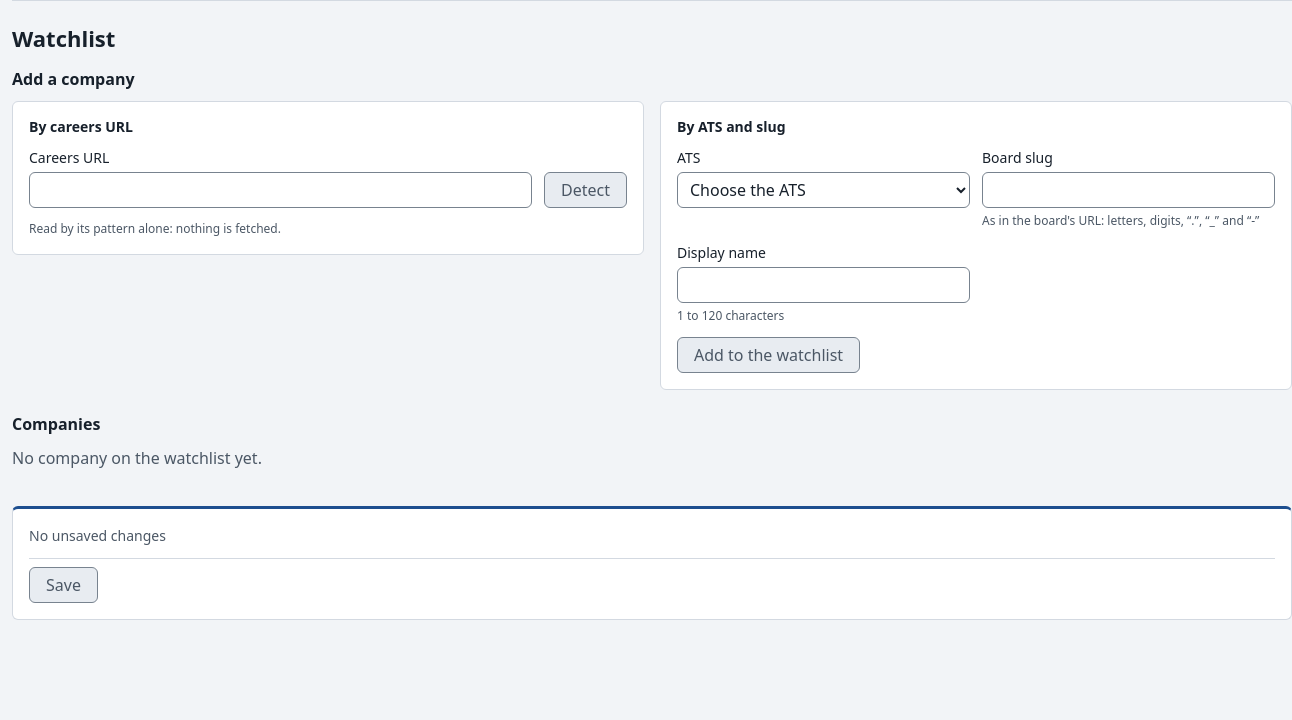
Test: WatchlistSection › an unsupported URL shows its reason
In the field labelled "Careers URL": (280, 190) [29,172,532,208], type "https://apply.workable.com/acme/"
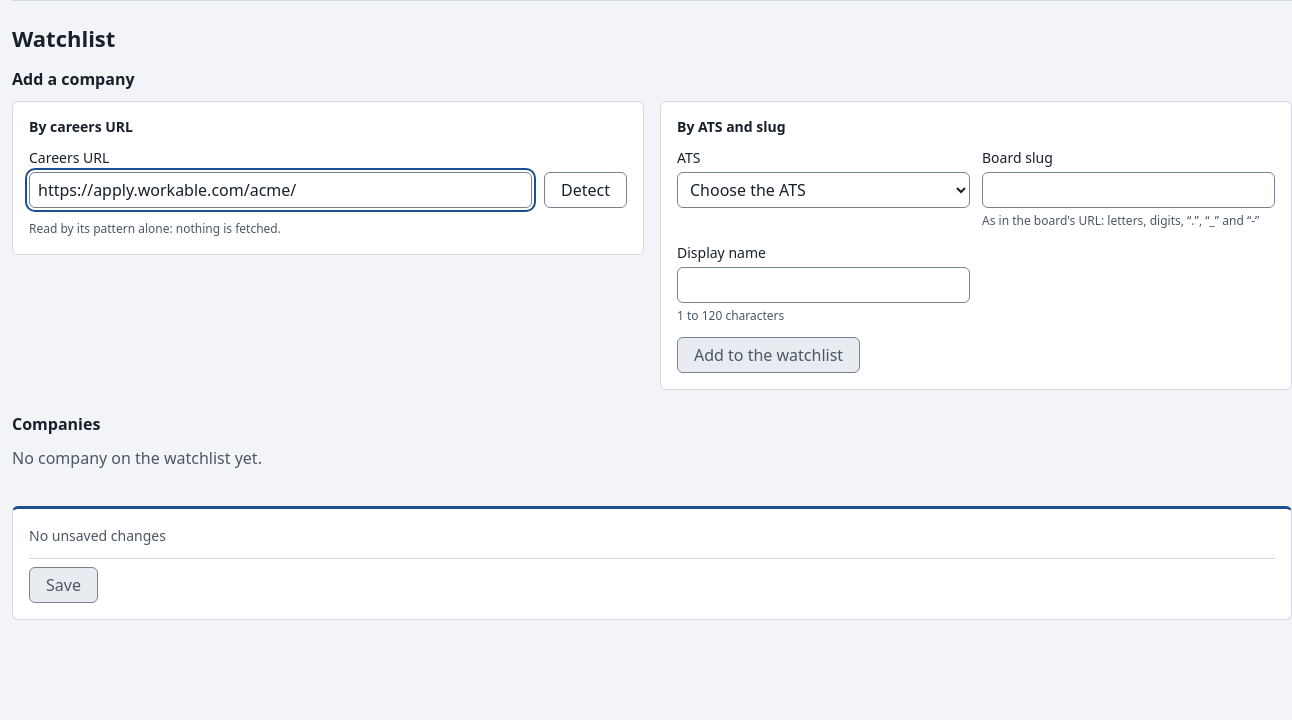
Click the button "Detect": (586, 190) [544,172,627,208]
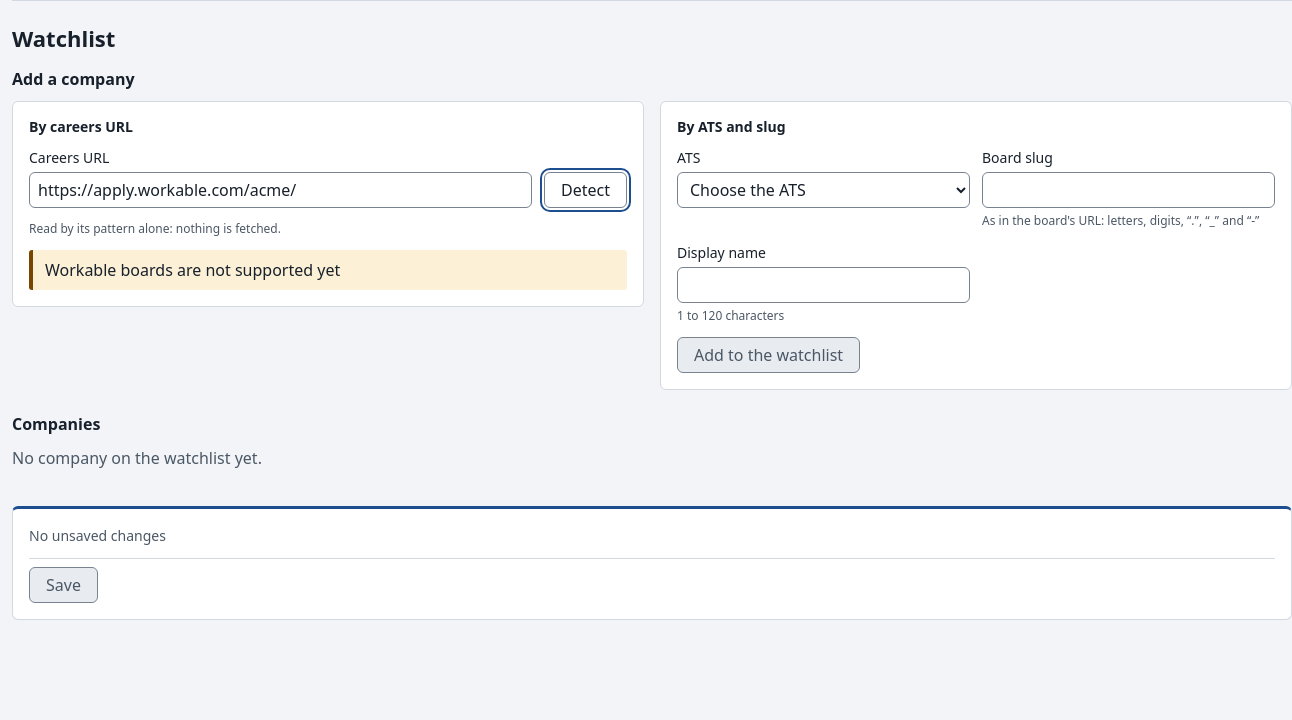
Expected: the text "Workable boards are not supported yet" is shown, [29,250,627,290]
Replace the text in the field labelled "Careers URL" with "careers at acme": (280, 190) [29,172,532,208]
Then press Enter
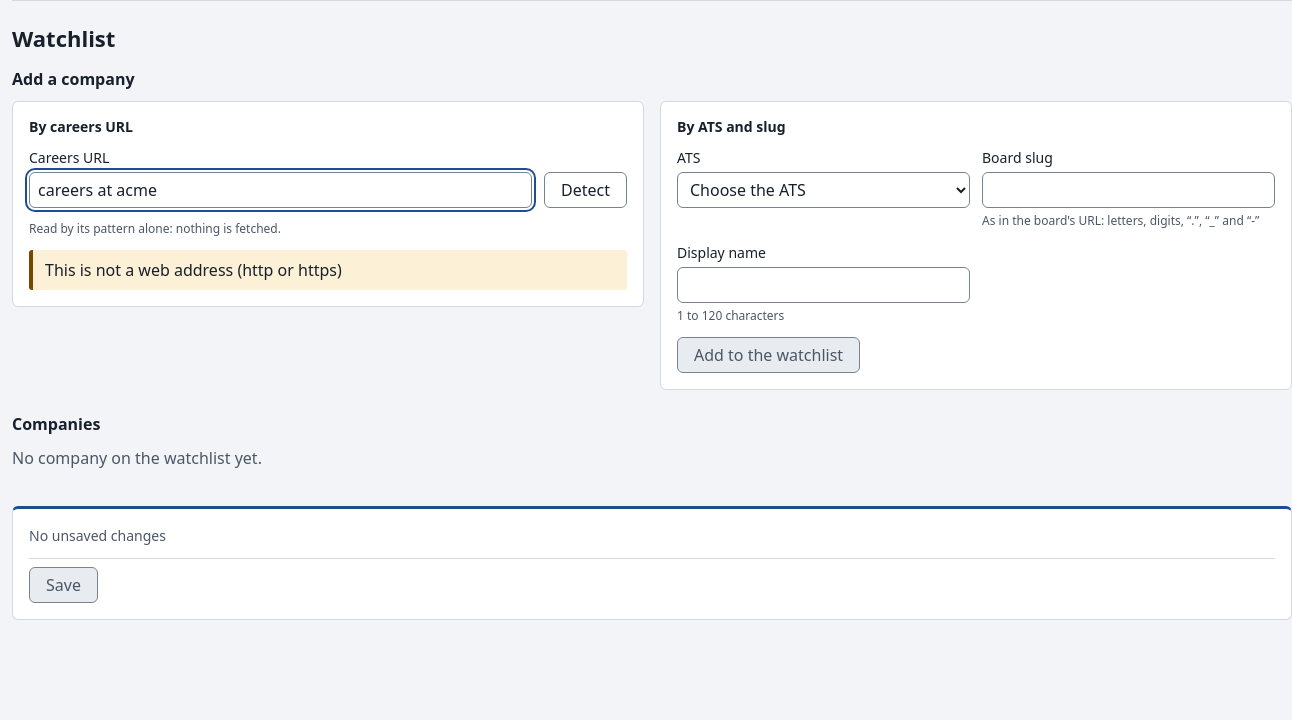
Expected: the text "This is not a web address (http or https)" is shown, [29,250,627,290]
